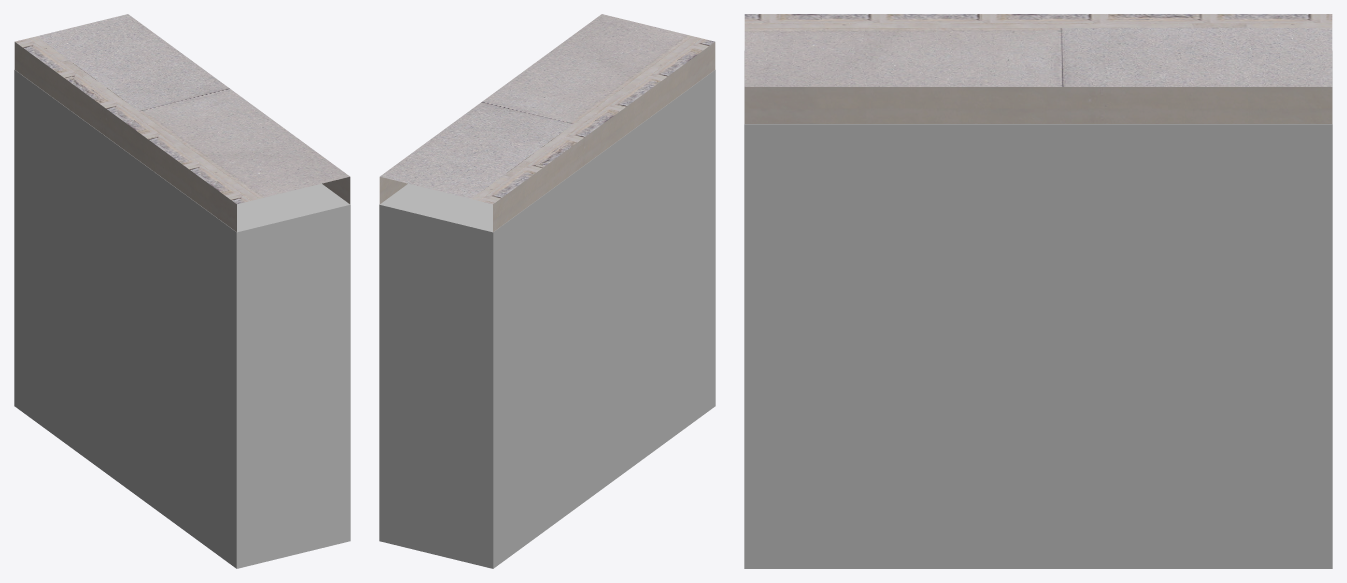
Rendered from SM_DG_HG_StoneWall01B.fbx.
3 renders of one model, left to right at view 1: azimuth 30°, elevation 25°; view 2: azimuth 150°, elevation 25°; view 3: azimuth 270°, elevation 25°, orthographic. The views are drawn at different scales.
Visible parts, largest first — view 1: SM_DG_HG_StoneWall01B_ConvexHulls, SM_DG_HG_StoneWall01B; view 2: SM_DG_HG_StoneWall01B_ConvexHulls, SM_DG_HG_StoneWall01B; view 3: SM_DG_HG_StoneWall01B_ConvexHulls, SM_DG_HG_StoneWall01B.
Boxes of the visible parts, x1=… form: SM_DG_HG_StoneWall01B_ConvexHulls: x1=14, y1=69, x2=350, y2=568; SM_DG_HG_StoneWall01B: x1=14, y1=14, x2=350, y2=231; SM_DG_HG_StoneWall01B_ConvexHulls: x1=379, y1=69, x2=715, y2=568; SM_DG_HG_StoneWall01B: x1=379, y1=14, x2=715, y2=231; SM_DG_HG_StoneWall01B_ConvexHulls: x1=744, y1=51, x2=1332, y2=568; SM_DG_HG_StoneWall01B: x1=744, y1=14, x2=1332, y2=123.
Bounding box in the file's own units: 57.75 × 195 × 177.
Materials: 2 (1 with a texture image).
